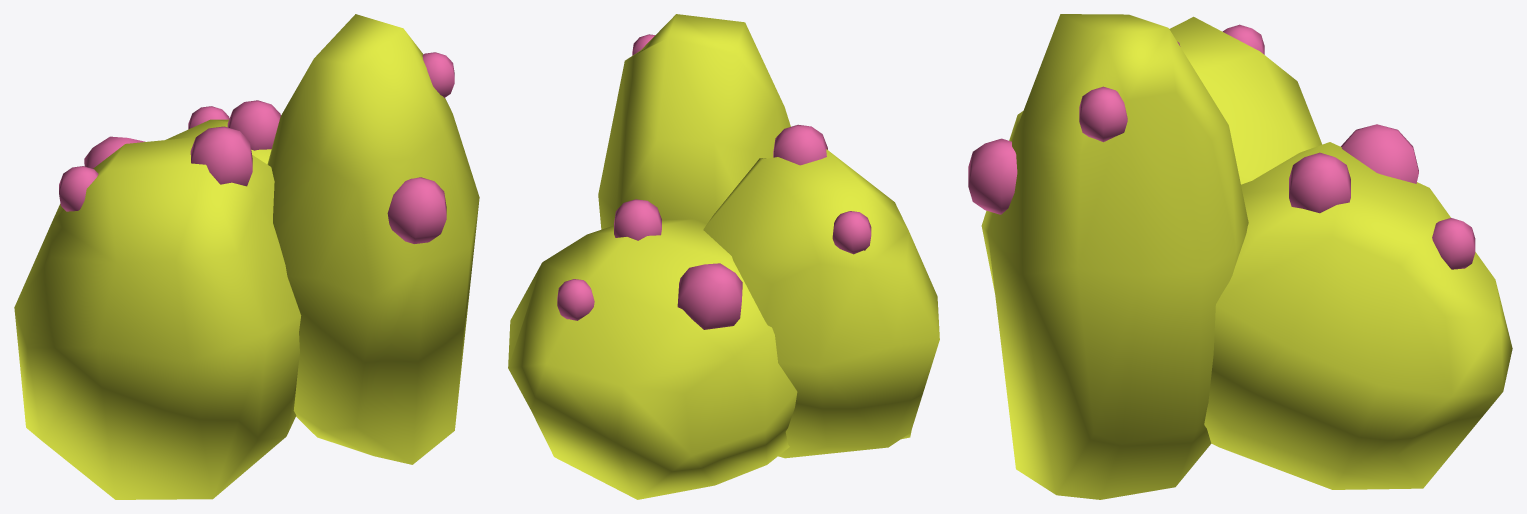
The model's file is obstacle_low.fbx.
3 views of the same model, side by side, from view 1: azimuth 30°, elevation 25°; view 2: azimuth 150°, elevation 25°; view 3: azimuth 270°, elevation 25° (orthographic). The views are drawn at different scales.
Visible parts, largest first — view 1: polySurface63; view 2: polySurface63; view 3: polySurface63.
Part boxes in pixels (box(x1,y1,x2,y2)): polySurface63: box(14, 14, 479, 499); polySurface63: box(508, 14, 939, 499); polySurface63: box(968, 14, 1512, 499).
Size of the model in its own units: 0.9006 by 0.8982 by 0.9295.
